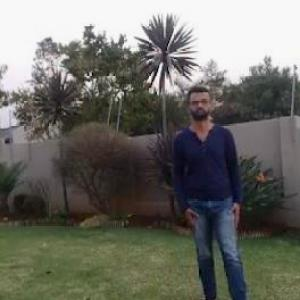follow: (167, 60, 256, 299)
